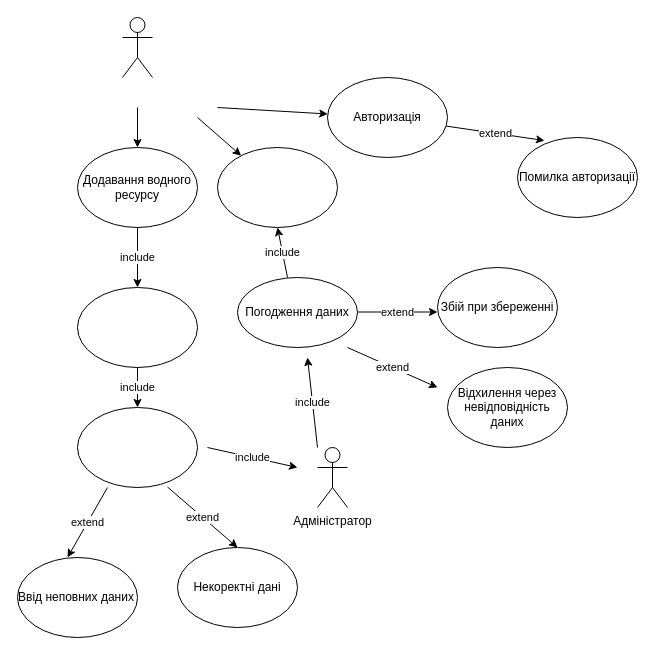
Image size: 655x655. Some labels were removed from this diagram. Here are the shapes that lost their labels. From the top down, the centre of each, then its label:
[137,47]: Авторизований користувач
[277,187]: Карта
[137,327]: Введення даних
[137,447]: Надсилання заявки
